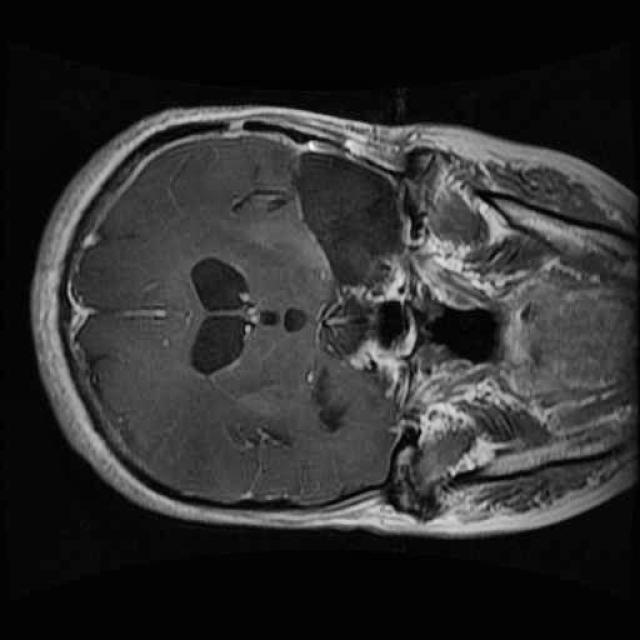Non-Tumor: (282, 135, 420, 299)
